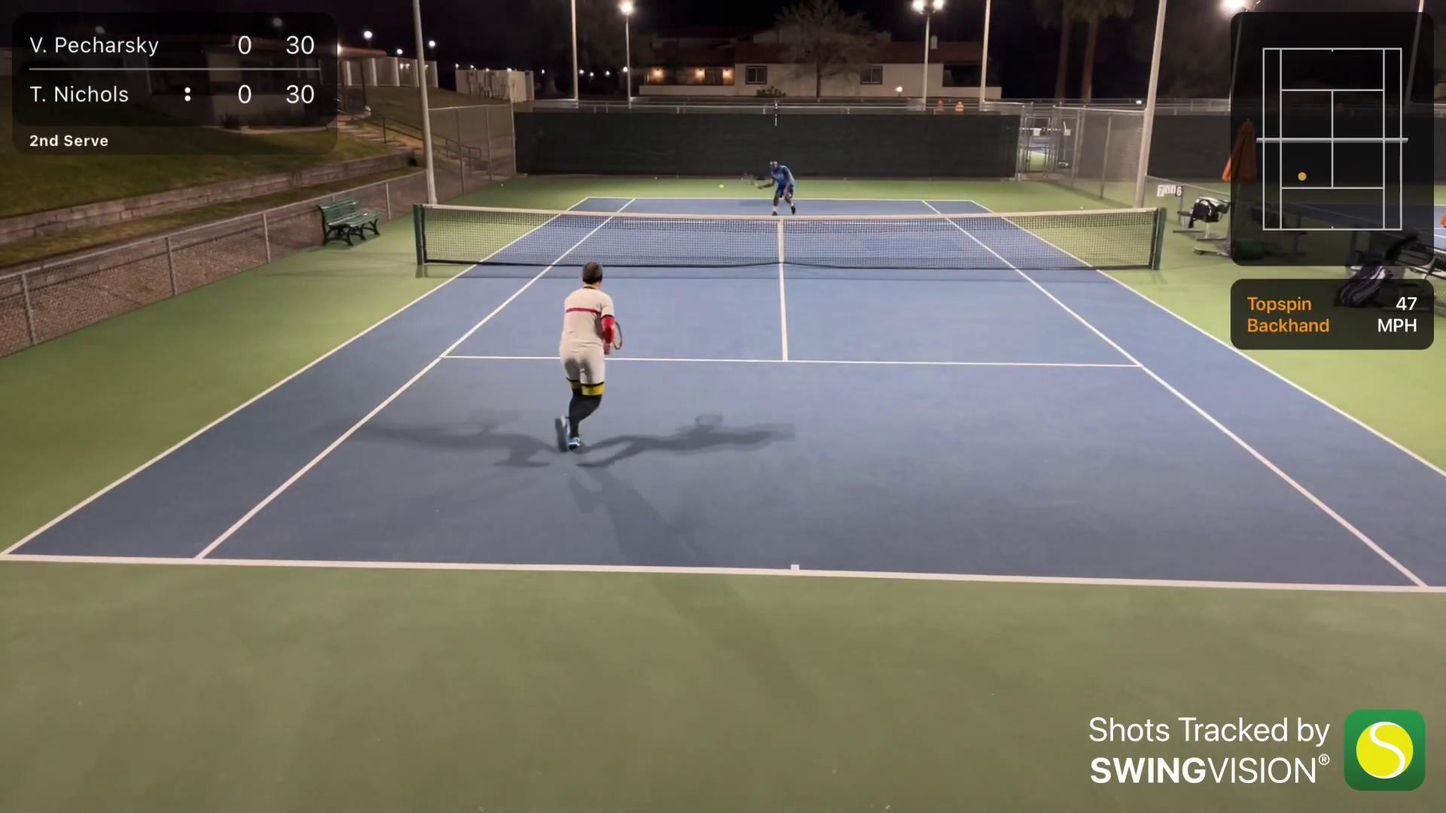ball: (718, 183, 725, 189), (653, 176, 660, 180), (499, 183, 506, 187)
